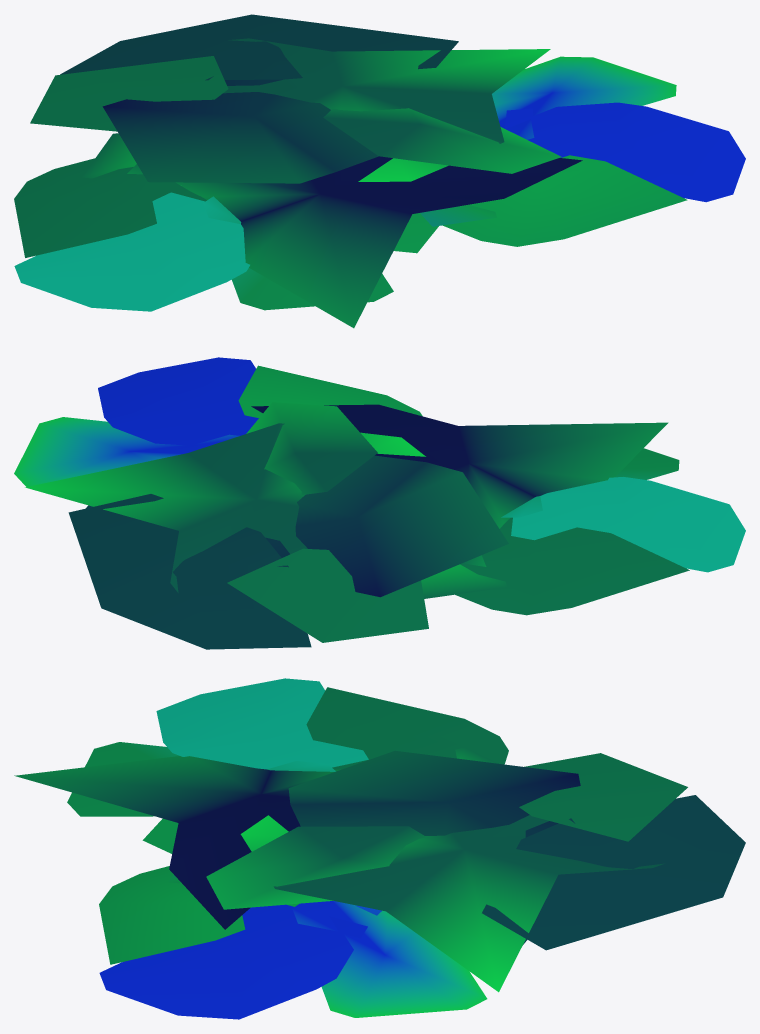
File: Wild_Grass_vdilbaiia_Mid_vdilbaiia_VarI_LOD2.fbx
3 renders of one model, top to bottom at view 1: azimuth 30°, elevation 25°; view 2: azimuth 150°, elevation 25°; view 3: azimuth 270°, elevation 25°, orthographic. The views are drawn at different scales.
Visible parts, largest first — view 1: _9051_VarI_LOD3; view 2: _9051_VarI_LOD3; view 3: _9051_VarI_LOD3.
Boxes of the visible parts, x1,y1,x2,y2 form: _9051_VarI_LOD3: (14,14,745,328); _9051_VarI_LOD3: (14,357,745,649); _9051_VarI_LOD3: (14,678,745,1019).
Bounding box in the file's own units: 77.01 × 3.97 × 69.22.
